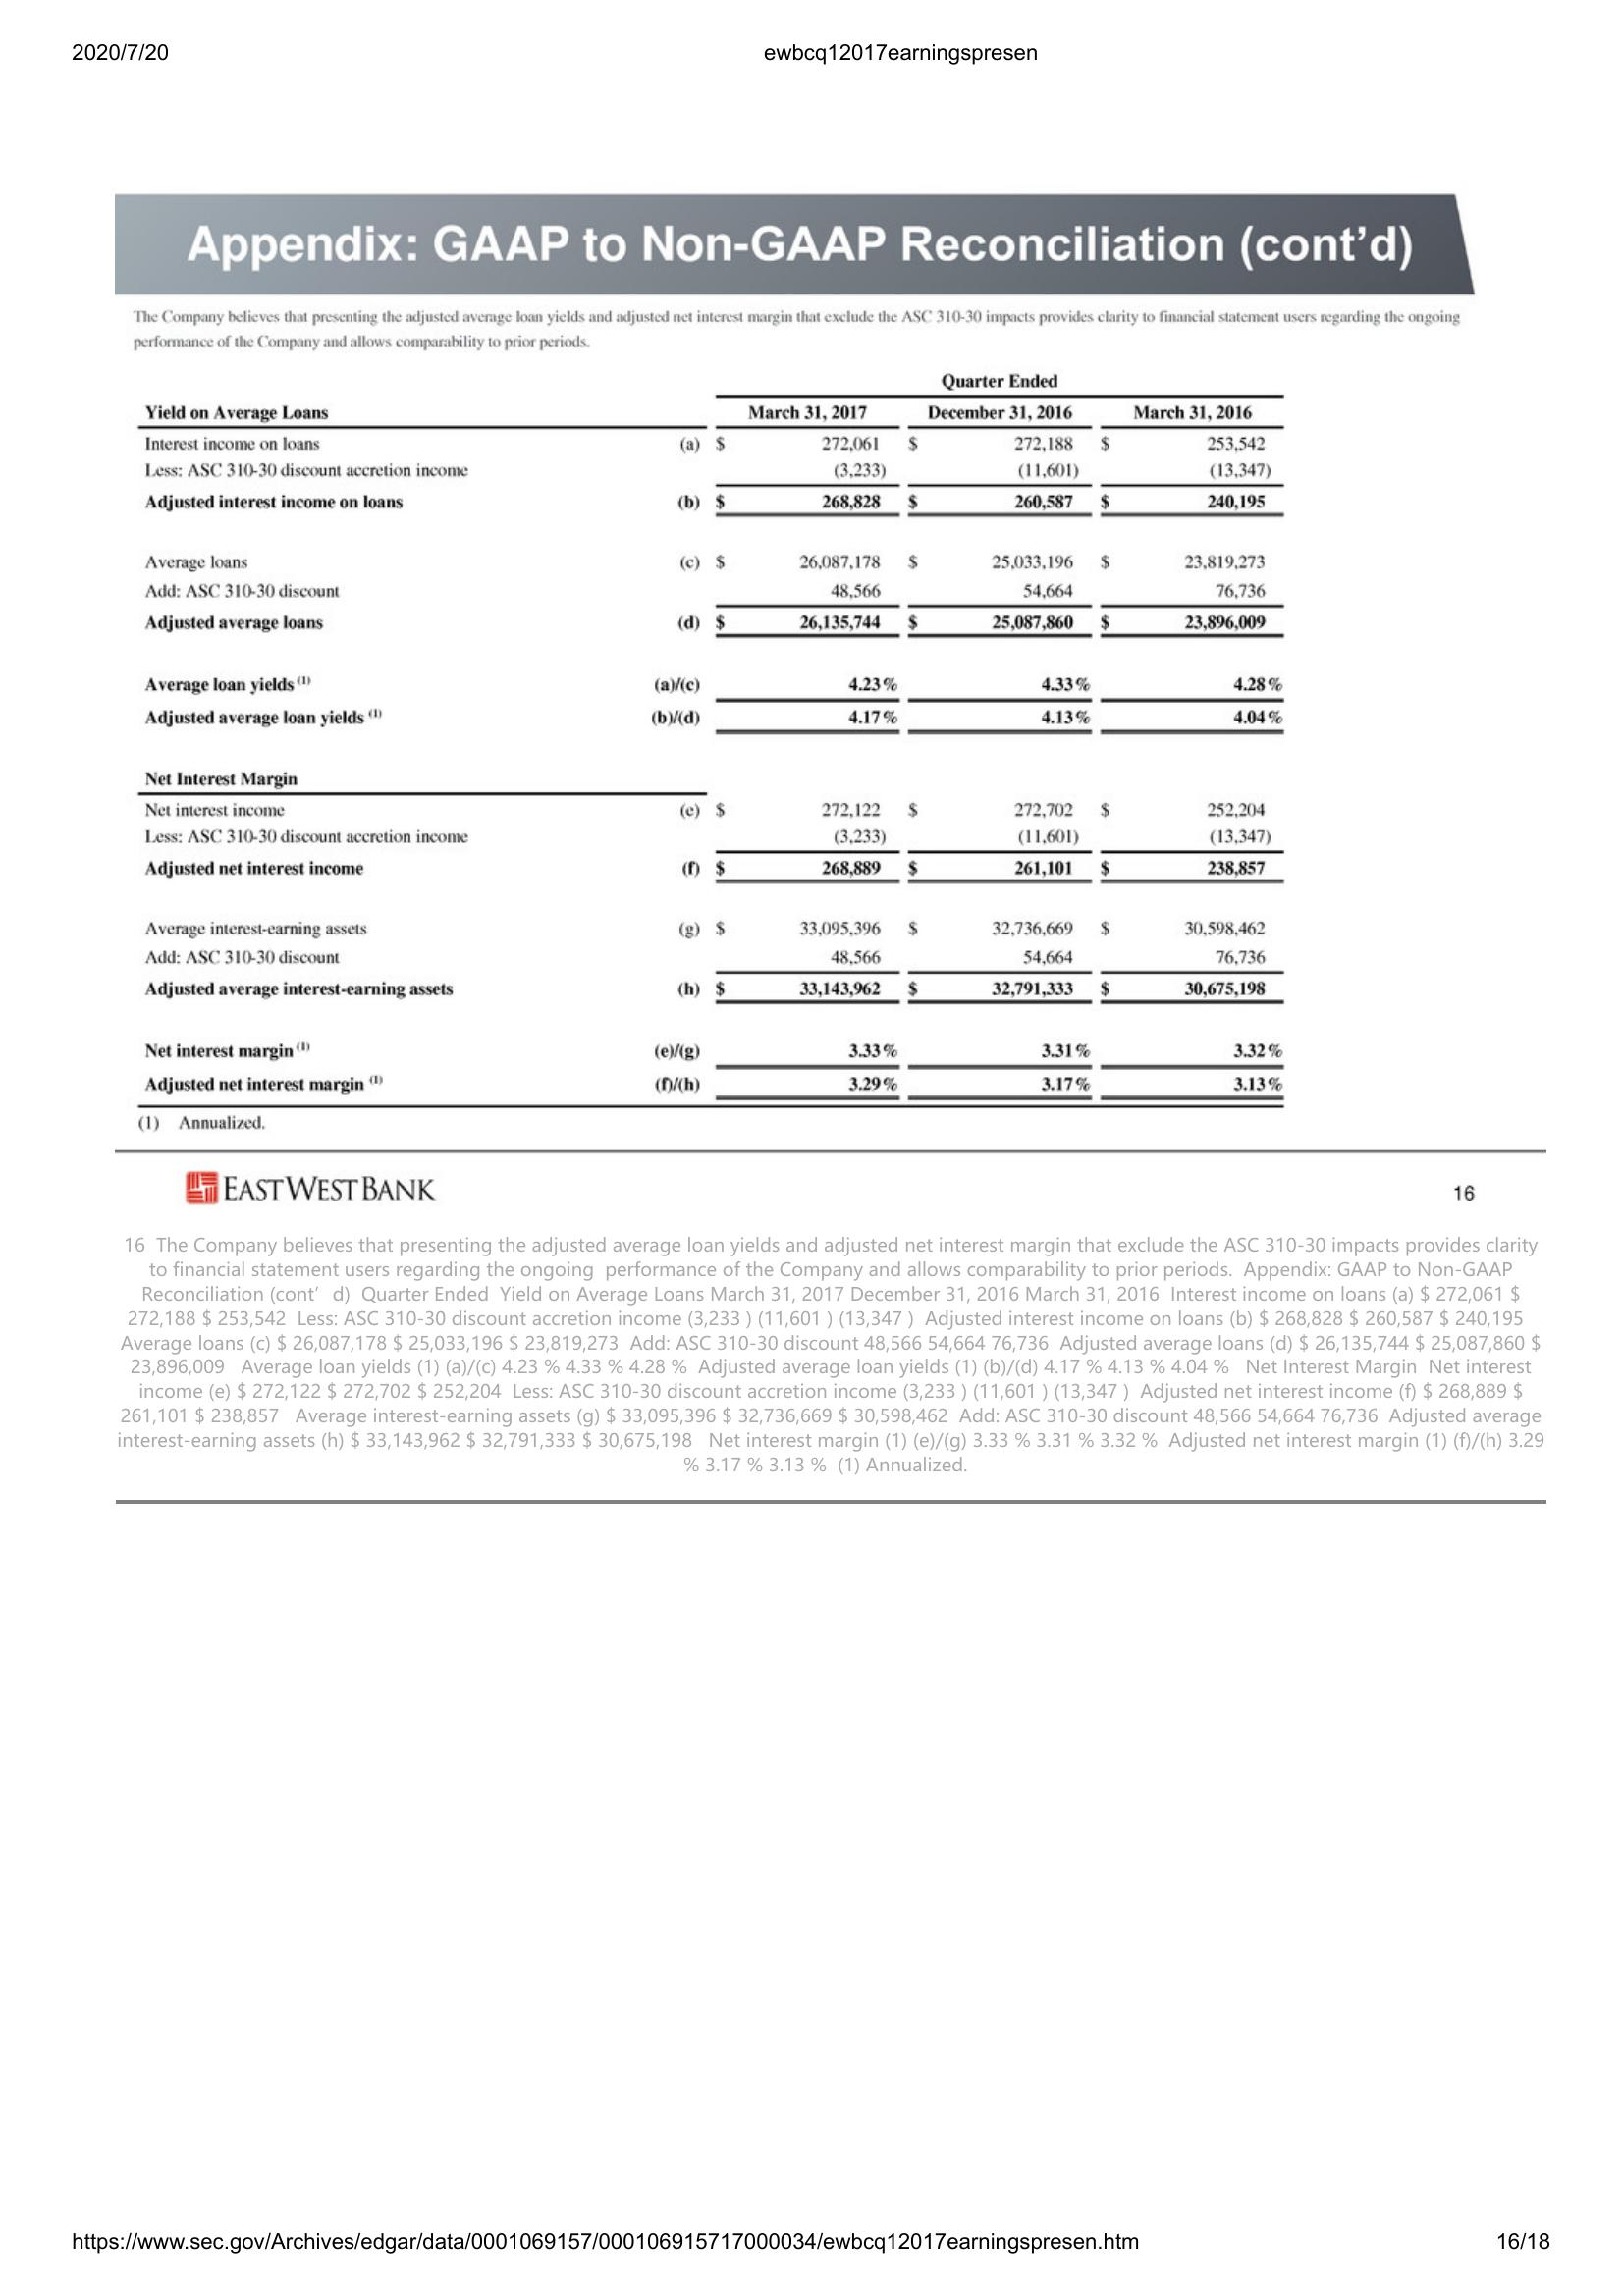table: (135, 363, 1296, 1116)
